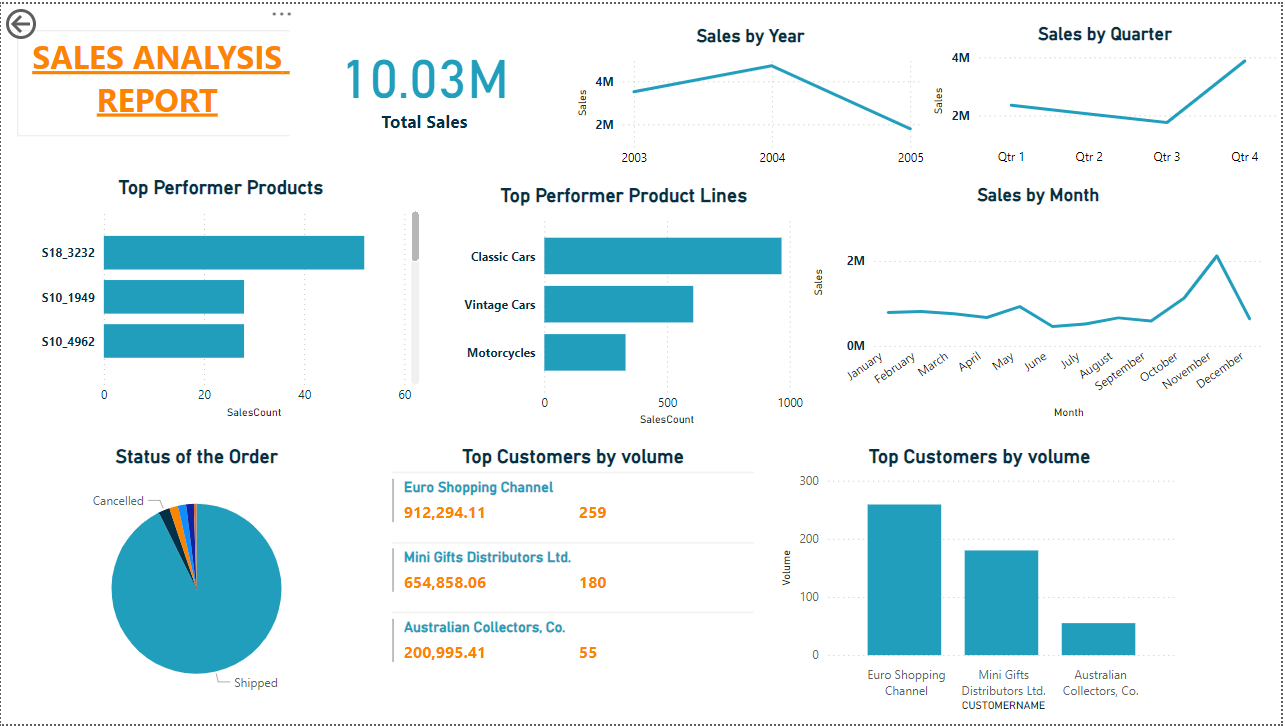

The page's visual inventory and layout, read from the dashboard file:
{"tool":"powerbi","page":{"name":"Report 1","canvas":[1280,720],"ordinal":0},"visuals":[{"type":"textbox","box":[16.2,26.2,280,106.2],"z":0},{"type":"actionButton","box":[0,0,100,40],"z":1000},{"type":"lineChart","fields":{"Category":["sales_data_sample.ORDERDATE.Variation.Date Hierarchy.Year"],"Y":["Sum(sales_data_sample.SALES)"]},"box":[571.1,21.4,356.2,150.8],"z":2000},{"type":"card","fields":{"Values":["Sum(sales_data_sample.SALES)"]},"box":[288.5,21.4,269.5,116.4],"z":3000},{"type":"lineChart","fields":{"Y":["Sum(sales_data_sample.SALES)"],"Category":["sales_data_sample.ORDERDATE.Variation.Date Hierarchy.Quarter"]},"box":[927.3,19,352.6,152],"z":4000},{"type":"lineChart","fields":{"Y":["Sum(sales_data_sample.SALES)"],"Category":["sales_data_sample.ORDERDATE.Variation.Date Hierarchy.Month"]},"box":[807.4,180.5,459.5,239.8],"z":5000},{"type":"barChart","title":"Top Performer Products","fields":{"Category":["sales_data_sample.PRODUCTCODE"],"Y":["sales_data_sample.SalesCount"]},"box":[16.6,172.2,407.3,247],"z":6000},{"type":"barChart","title":"Top Performer Product Lines","fields":{"Y":["sales_data_sample.SalesCount"],"Category":["sales_data_sample.PRODUCTLINE"]},"box":[439.3,179.5,368.1,247],"z":7000},{"type":"pieChart","title":"Status of the Order","fields":{"Y":["CountNonNull(sales_data_sample.STATUS)"],"Category":["sales_data_sample.STATUS"]},"box":[30,441.8,331.3,265.9],"z":8000},{"type":"multiRowCard","title":"Top Customers by volume","fields":{"Values":["sales_data_sample.CUSTOMERNAME","sales_data_sample.SALES","sales_data_sample.SalesCount"]},"box":[391.3,441.8,366.8,265.9],"z":9000},{"type":"columnChart","title":"Top Customers by volume","fields":{"Category":["sales_data_sample.CUSTOMERNAME"],"Y":["sales_data_sample.SalesCount"]},"box":[779.9,441.8,402.2,265.9],"z":10000}]}

Visuals, with their boxes in screenshot pixels (x1, y1, x2, y2), scaled from the page's 1280x720 canvas onto the 1285x726 screenshot:
textbox: bbox=[16, 26, 297, 134]
actionButton: bbox=[0, 0, 100, 40]
lineChart - sales_data_sample.ORDERDATE.Variation.Date Hierarchy.Year x Sum(sales_data_sample.SALES): bbox=[573, 22, 931, 174]
card - Sum(sales_data_sample.SALES): bbox=[290, 22, 560, 139]
lineChart - Sum(sales_data_sample.SALES) x sales_data_sample.ORDERDATE.Variation.Date Hierarchy.Quarter: bbox=[931, 19, 1284, 172]
lineChart - Sum(sales_data_sample.SALES) x sales_data_sample.ORDERDATE.Variation.Date Hierarchy.Month: bbox=[811, 182, 1272, 424]
"Top Performer Products" barChart: bbox=[17, 174, 426, 423]
"Top Performer Product Lines" barChart: bbox=[441, 181, 811, 430]
"Status of the Order" pieChart: bbox=[30, 445, 363, 714]
"Top Customers by volume" multiRowCard: bbox=[393, 445, 761, 714]
"Top Customers by volume" columnChart: bbox=[783, 445, 1187, 714]
